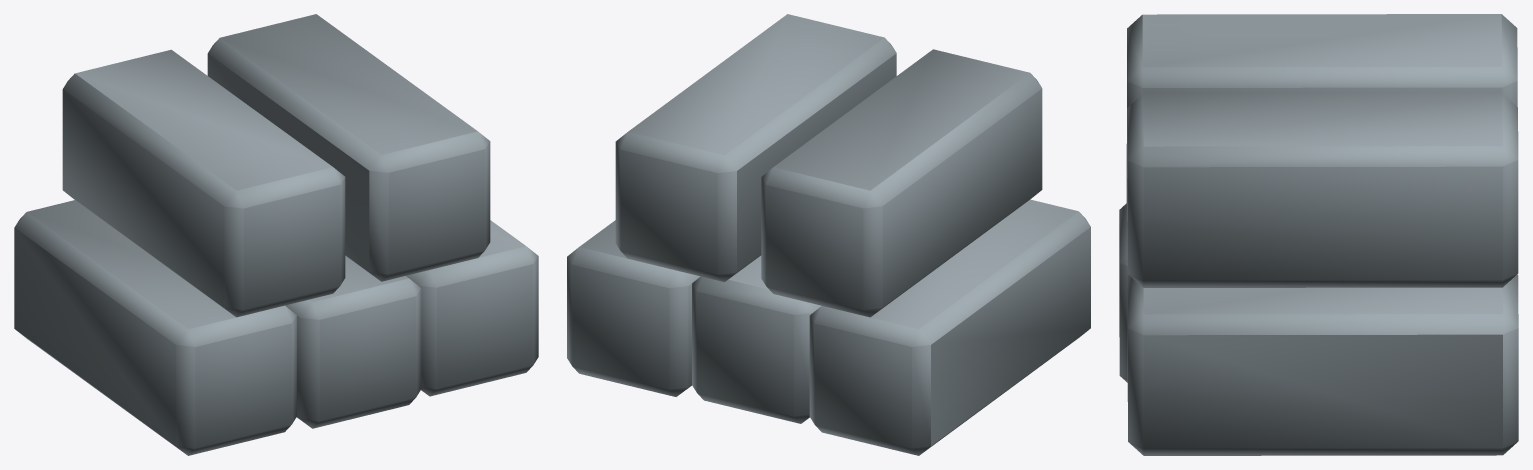
Rendered from d_kaykit_pierres_taillees.glb.
3 views of the same model, side by side, from view 1: azimuth 30°, elevation 25°; view 2: azimuth 150°, elevation 25°; view 3: azimuth 270°, elevation 25° (orthographic). The views are drawn at different scales.
Visible parts, largest first — view 1: d_kaykit_pierres_taillees; view 2: d_kaykit_pierres_taillees; view 3: d_kaykit_pierres_taillees.
Boxes of the visible parts, x1,y1,x2,y2 form: d_kaykit_pierres_taillees: [14, 14, 538, 455]; d_kaykit_pierres_taillees: [567, 14, 1090, 455]; d_kaykit_pierres_taillees: [1119, 14, 1518, 455].
Bounding box in the file's own units: 0.4211 × 0.28 × 0.3579.
Materials: 1 (1 with a texture image).
